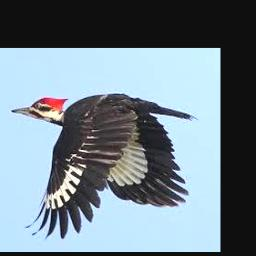Woodpecker: (12, 93, 200, 238)
